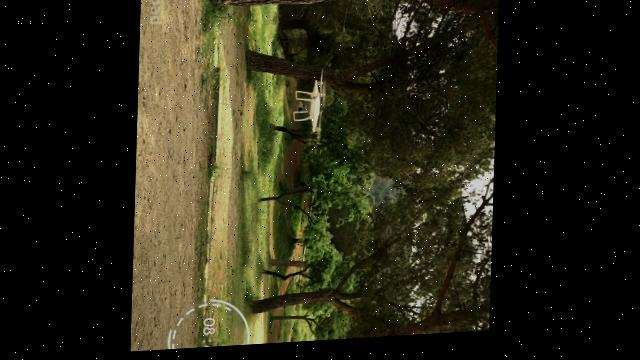drone: (294, 70, 327, 151)
